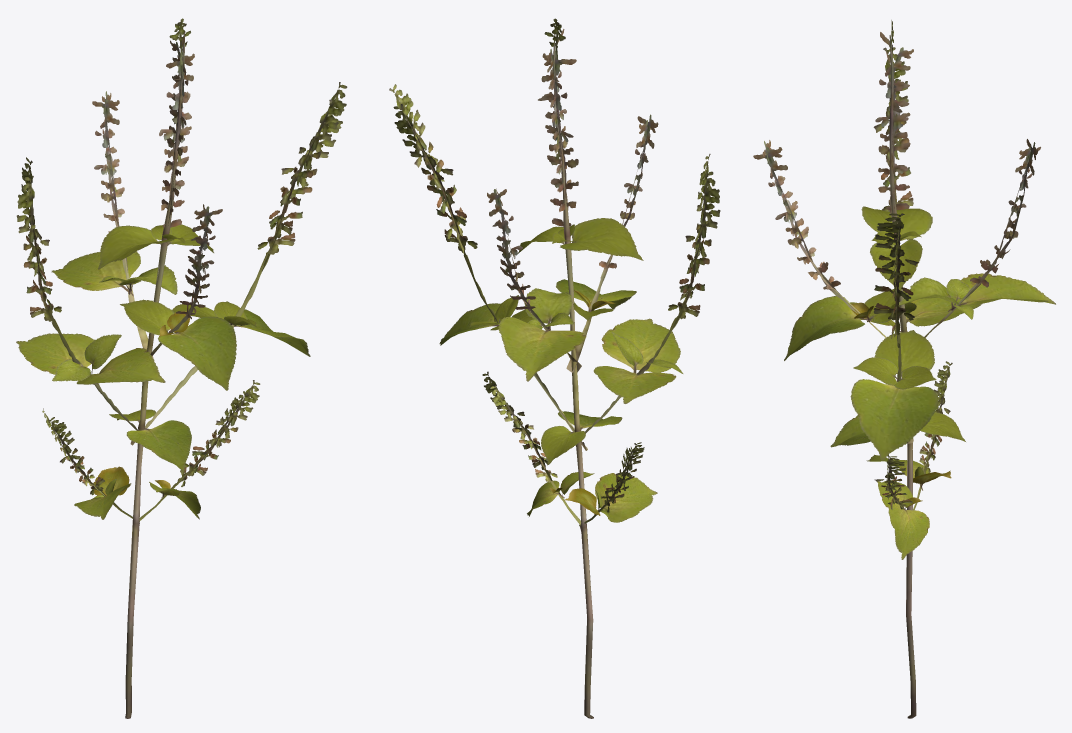
3 renders of one model, left to right at view 1: azimuth 30°, elevation 25°; view 2: azimuth 150°, elevation 25°; view 3: azimuth 270°, elevation 25°, orthographic. The views are drawn at different scales.
Parts seen in each view (by area): view 1: shrub_03__a_lod1; view 2: shrub_03__a_lod1; view 3: shrub_03__a_lod1.
Boxes of the visible parts, bbox=[...] form: shrub_03__a_lod1: bbox=[16, 18, 347, 718]; shrub_03__a_lod1: bbox=[389, 18, 720, 718]; shrub_03__a_lod1: bbox=[753, 20, 1055, 718].
Size of the model in its own units: 0.2054 by 0.4037 by 0.1545.
Materials: 1 (1 with a texture image).
